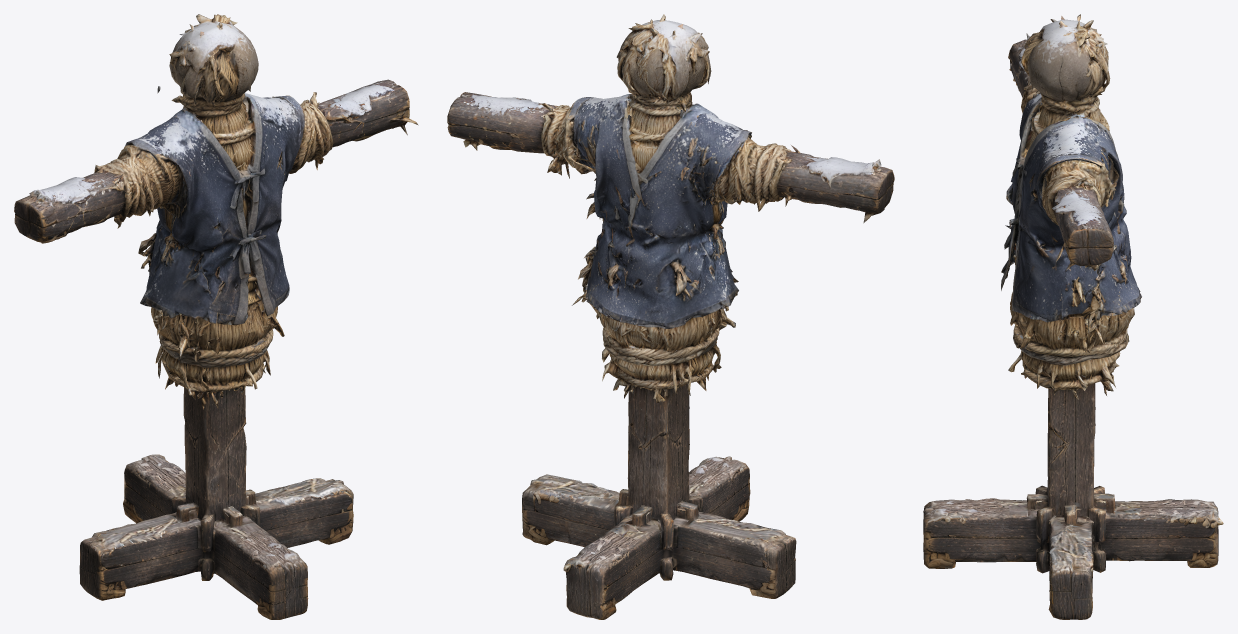
Rendered from dummy3_raw.fbx.
3 views of the same model, side by side, from view 1: azimuth 30°, elevation 25°; view 2: azimuth 150°, elevation 25°; view 3: azimuth 270°, elevation 25° (orthographic).
Visible parts, largest first — view 1: texture_mapping; view 2: texture_mapping; view 3: texture_mapping.
Boxes of the visible parts, x1,y1,x2,y2 form: texture_mapping: (14,14,418,619); texture_mapping: (447,14,894,619); texture_mapping: (923,14,1223,619).
Size of the model in its own units: 0.7781 by 0.504 by 1.
Materials: 1 (1 with a texture image).
